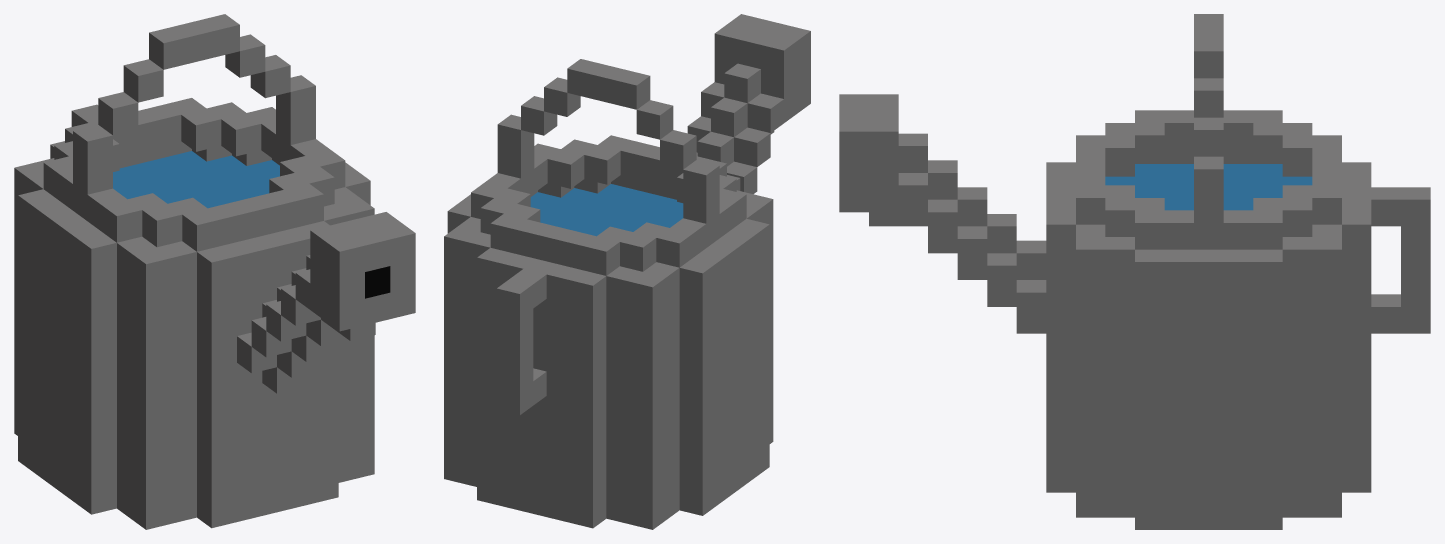
The model's file is watering_can_full.dae.
3 views of the same model, side by side, from view 1: azimuth 30°, elevation 25°; view 2: azimuth 150°, elevation 25°; view 3: azimuth 270°, elevation 25° (orthographic). The views are drawn at different scales.
Visible parts, largest first — view 1: PlaneCOL; view 2: PlaneCOL; view 3: PlaneCOL.
Part boxes in pixels (x1=…): PlaneCOL: x1=14, y1=14, x2=415, y2=529; PlaneCOL: x1=444, y1=14, x2=810, y2=529; PlaneCOL: x1=839, y1=14, x2=1430, y2=529.
Size of the model in its own units: 1.1 by 2 by 1.6.
